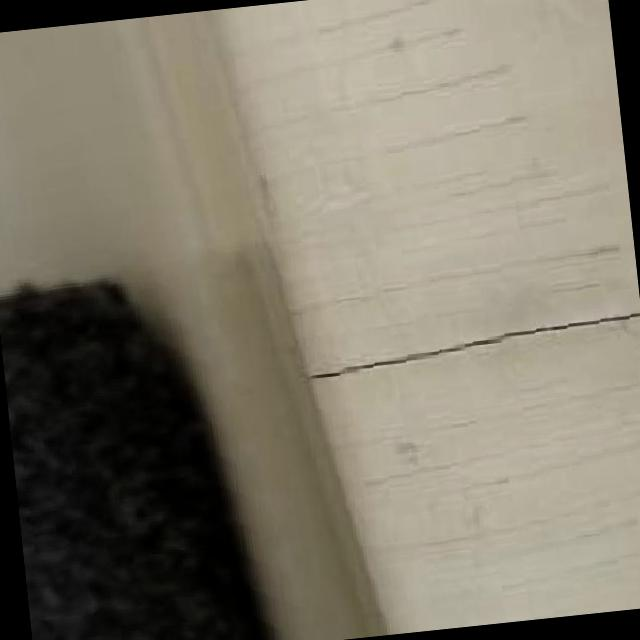crack: (307, 309, 640, 380)
